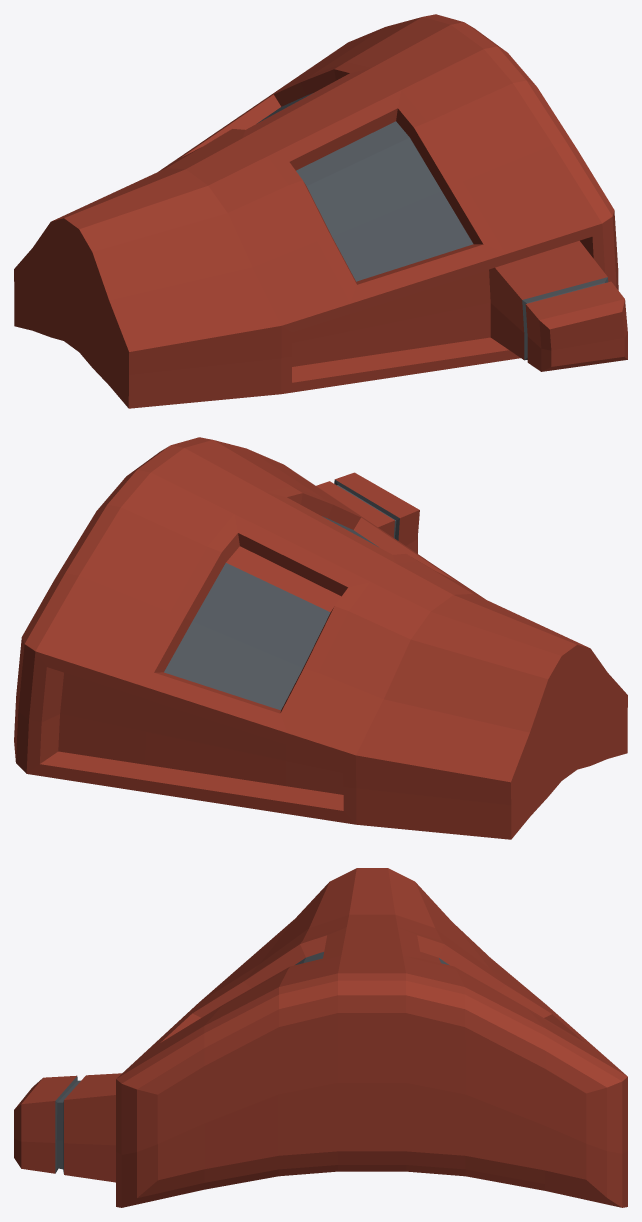
File: Fighter_05_Side_Mount_Right_Red.fbx
The picture shows the model from 3 angles, top to bottom: view 1: azimuth 30°, elevation 25°; view 2: azimuth 150°, elevation 25°; view 3: azimuth 270°, elevation 25°; orthographic projection. The views are drawn at different scales.
Parts seen in each view (by area): view 1: Fighter_05_Side_Mount_Right_Red; view 2: Fighter_05_Side_Mount_Right_Red; view 3: Fighter_05_Side_Mount_Right_Red.
Boxes of the visible parts, x1,y1,x2,y2 form: Fighter_05_Side_Mount_Right_Red: [14, 14, 627, 408]; Fighter_05_Side_Mount_Right_Red: [14, 437, 627, 839]; Fighter_05_Side_Mount_Right_Red: [14, 868, 627, 1207].
Bounding box in the file's own units: 402 × 206 × 477.
2 materials, 2 textured.
